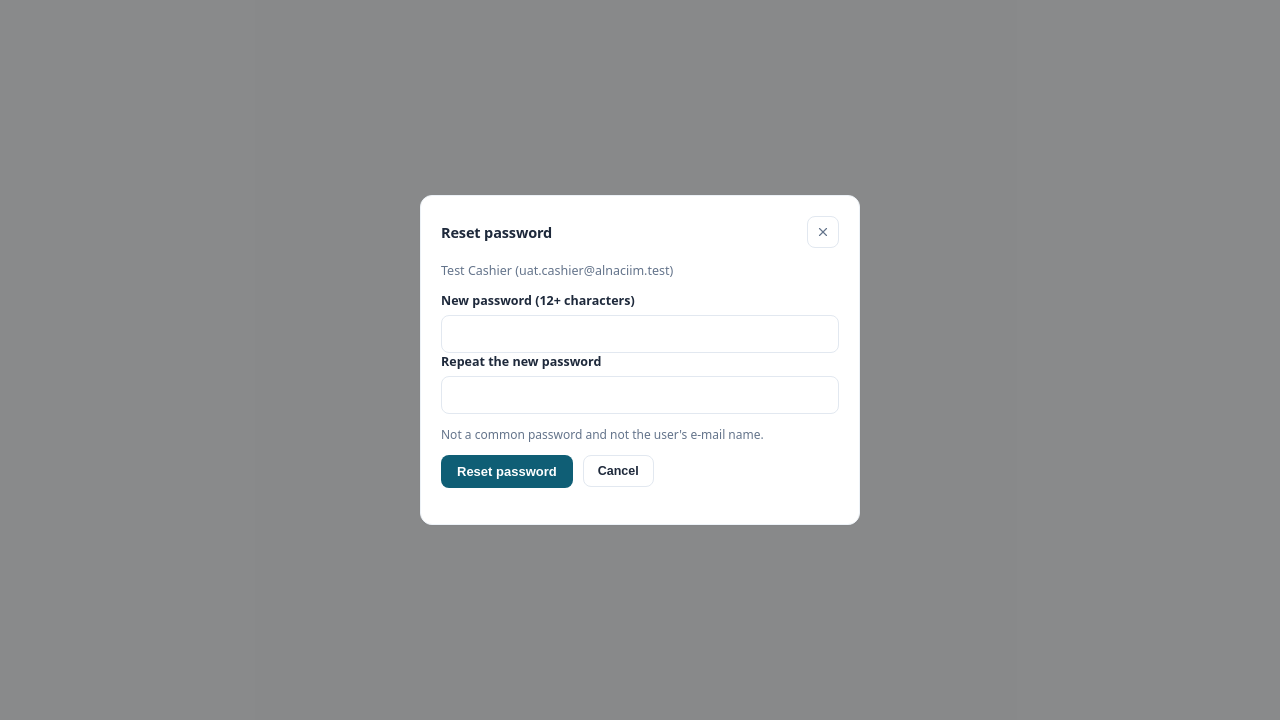
Admin reset password modal › shows the server policy message and clears both fields after a refused reset
Step 1. Type "Password-2026-ok" into the password field labelled "New password (12+ characters)" → (640, 334), box [441,315,839,353]
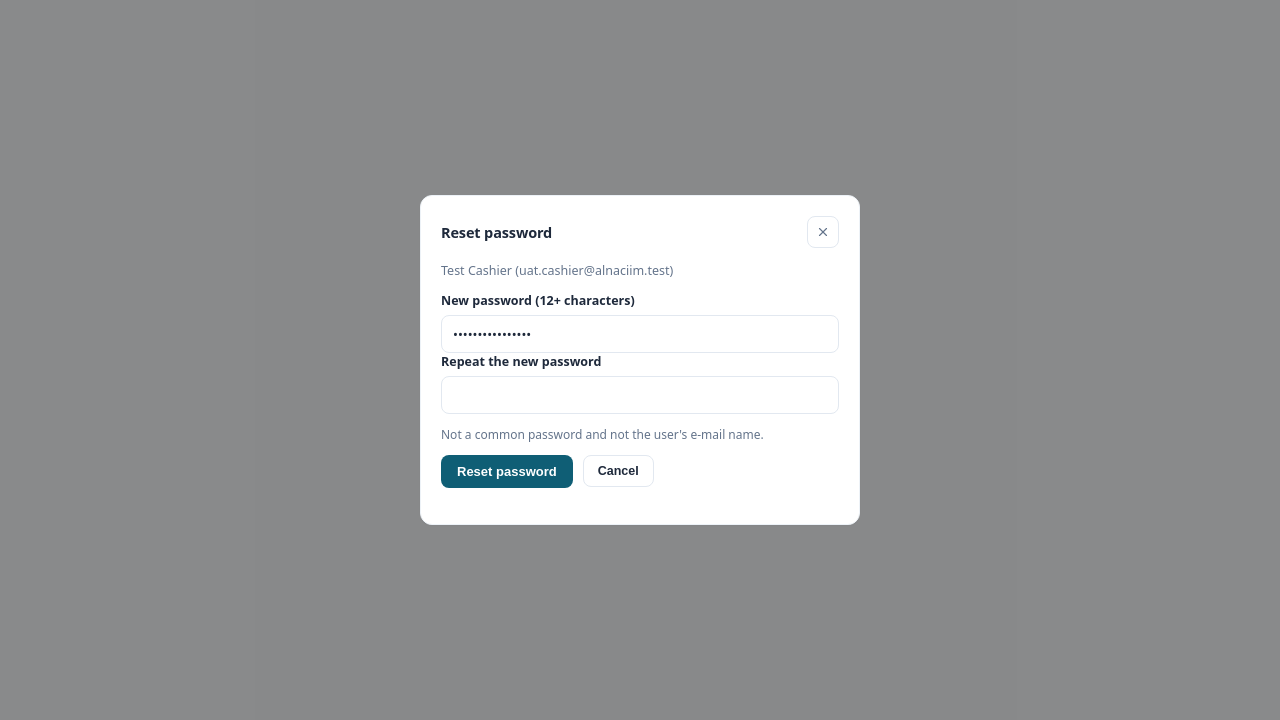
Step 2. Type "Password-2026-ok" into the password field labelled "Repeat the new password" → (640, 395), box [441,376,839,414]
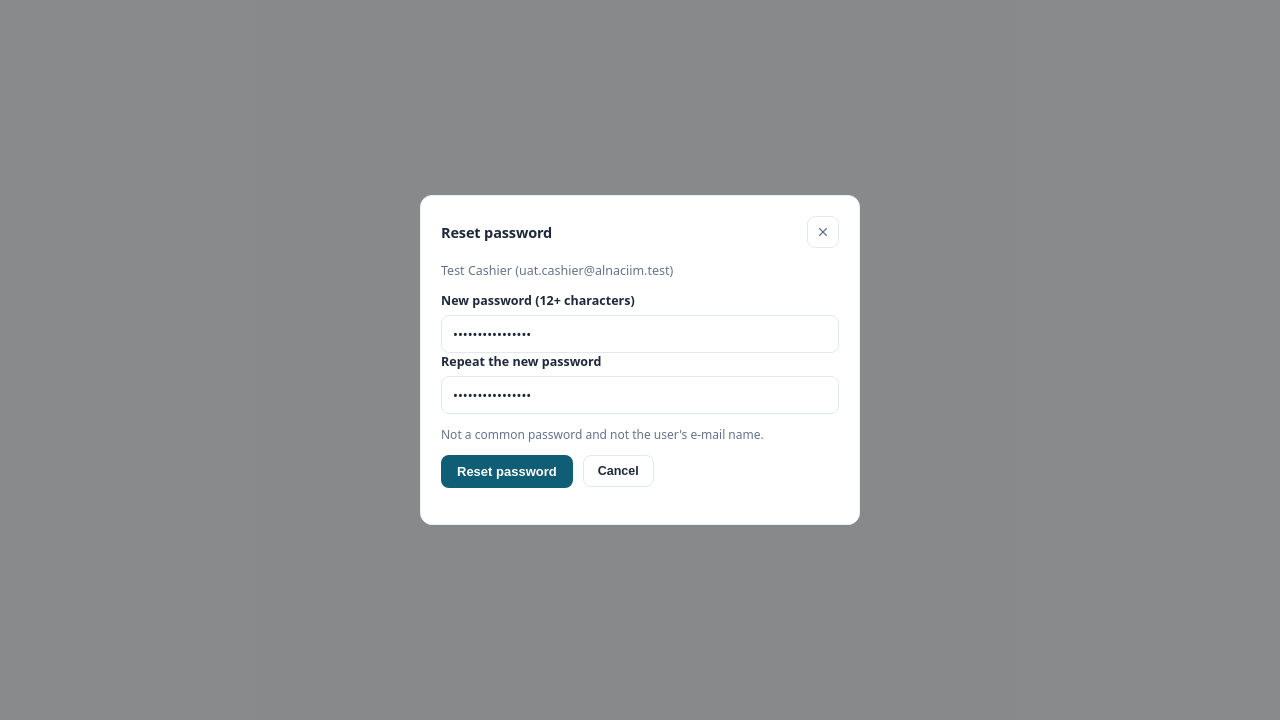
Step 3. Submit the form labelled "New password", box [441,292,839,488]
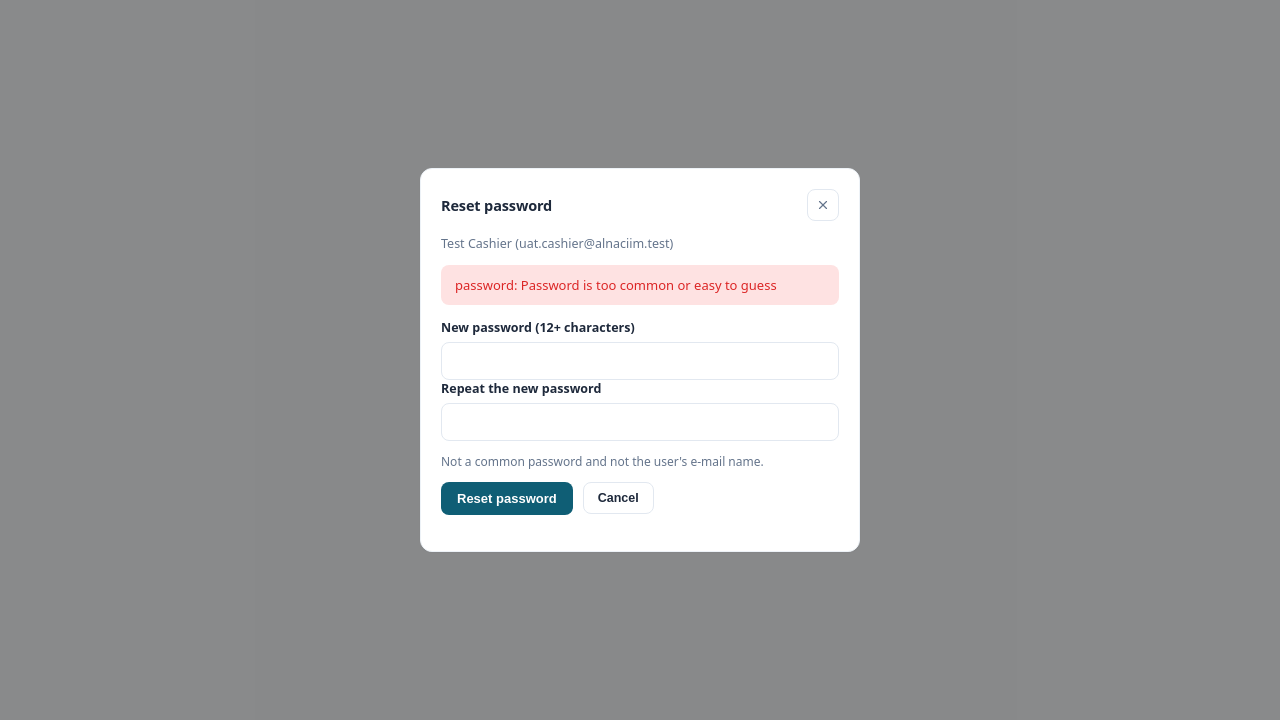
Now the text "password: Password is too common or easy to guess" is shown, box [441,265,839,305]
Now the password field labelled "New password (12+ characters)" is empty, box [441,342,839,380]
Now the password field labelled "Repeat the new password" is empty, box [441,403,839,441]
